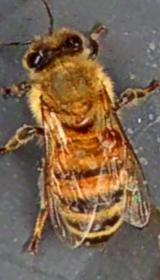varroa_mite: (97, 122, 126, 155)
